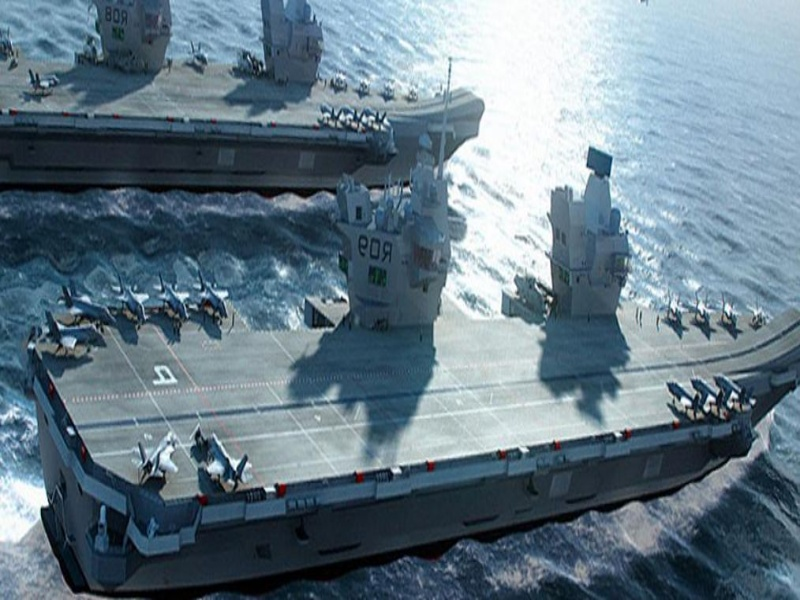carrier: (45, 225, 791, 587), (6, 7, 478, 180)
